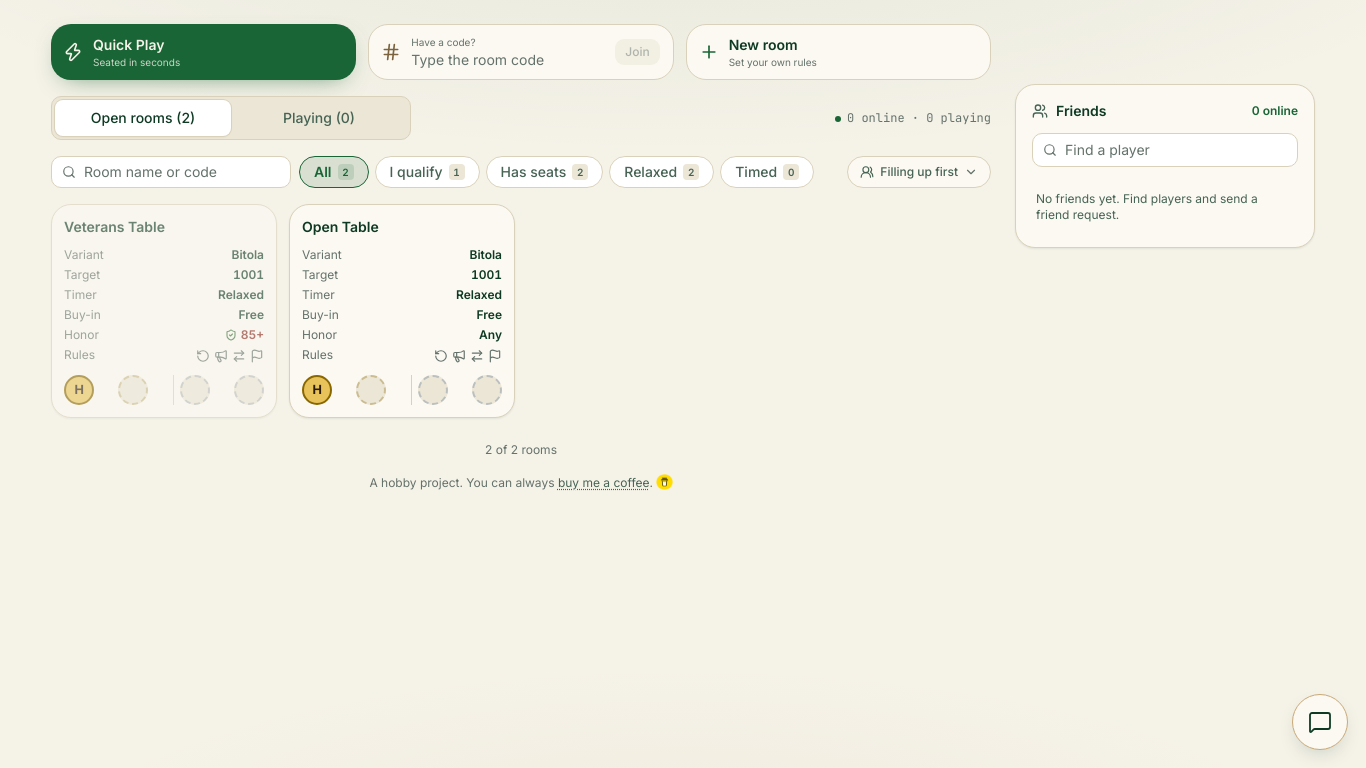
Test: LobbyPage › filters the grid to rooms the viewer qualifies for
The image size is (1366, 768).
Check: the number of elements with test id "room-card" is 2, box [51,204,277,418]; [289,204,515,418]
Click the button with test id "filter-chip-qualify" at point(427, 172), box [374,156,480,188]
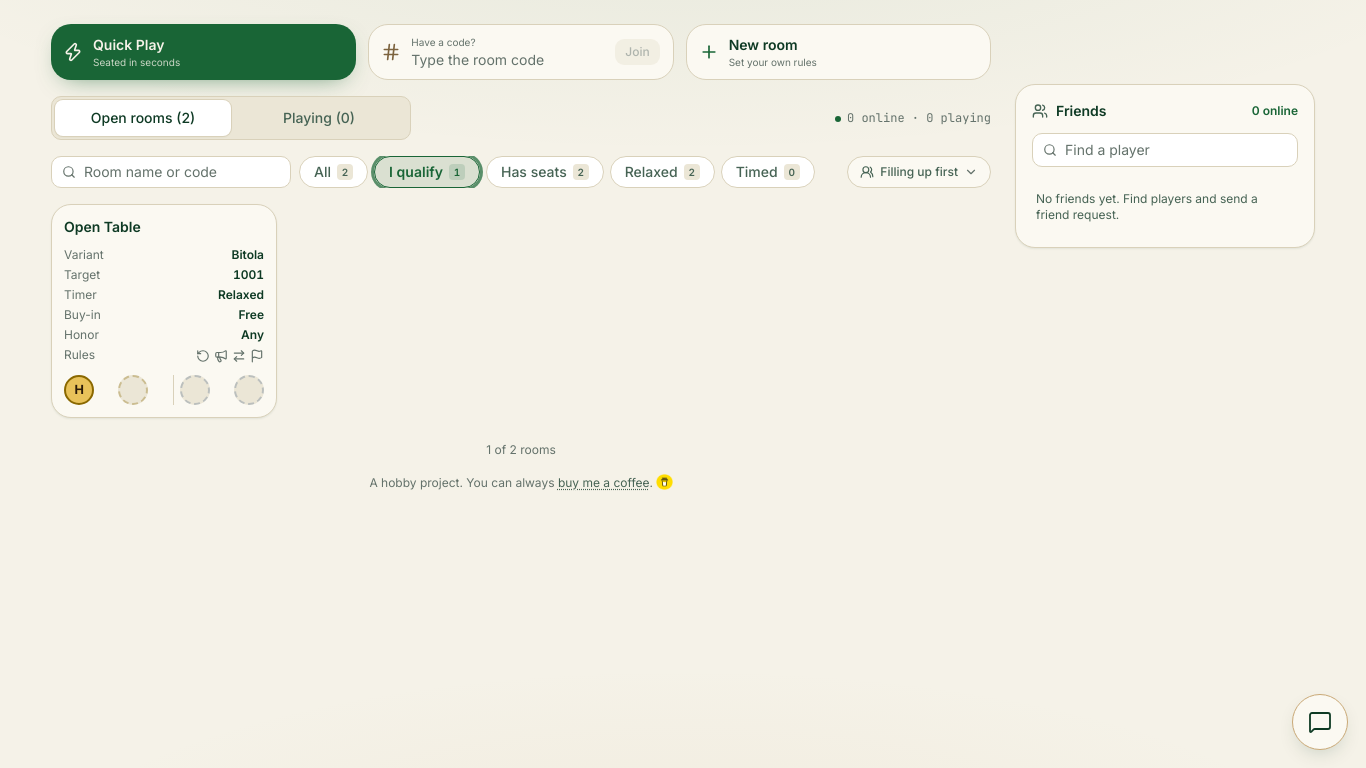
Check: the heading "Open Table" is shown, box [64,217,141,237]
Check: the number of elements with test id "room-card" is 1, box [51,204,277,418]
